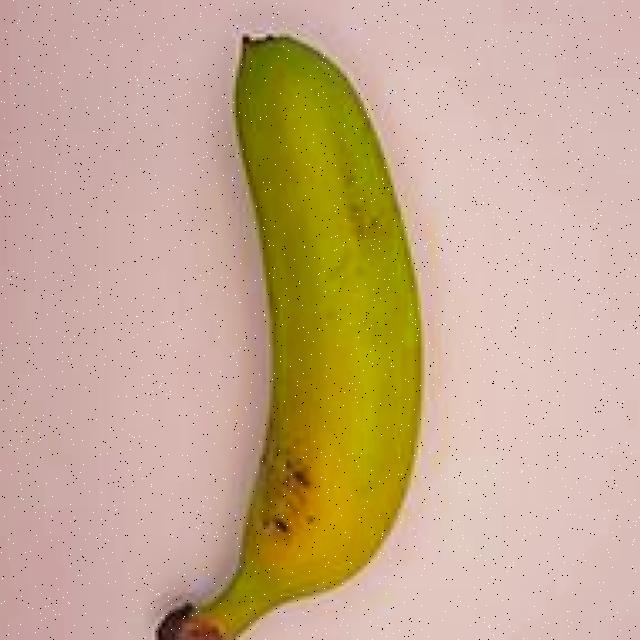Unripe: (135, 6, 438, 640)
